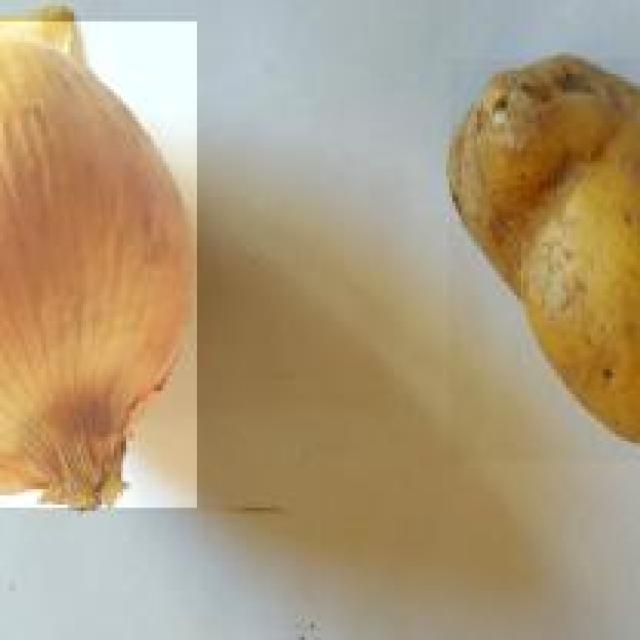onion: (0, 28, 197, 517)
potato: (449, 52, 640, 458)
